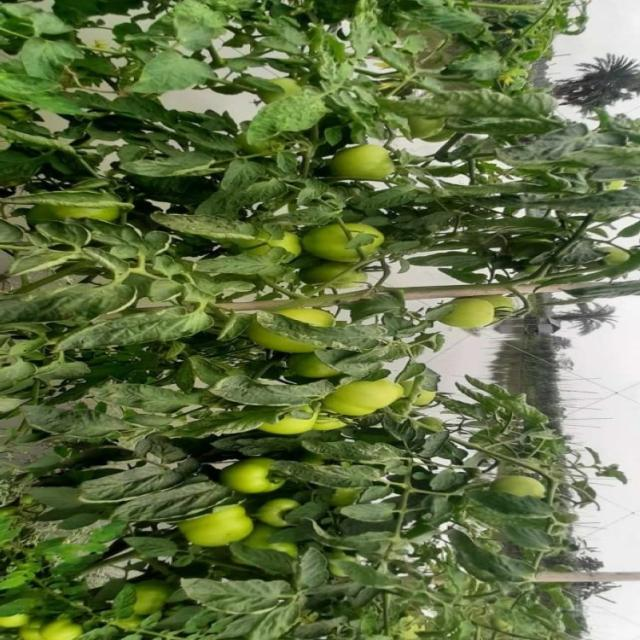tomato: (337, 142, 423, 199), (322, 370, 409, 421), (252, 304, 326, 355), (184, 502, 258, 550), (446, 292, 504, 346), (491, 468, 568, 507), (312, 210, 377, 254), (226, 459, 289, 496), (20, 619, 87, 640), (262, 498, 291, 530)
